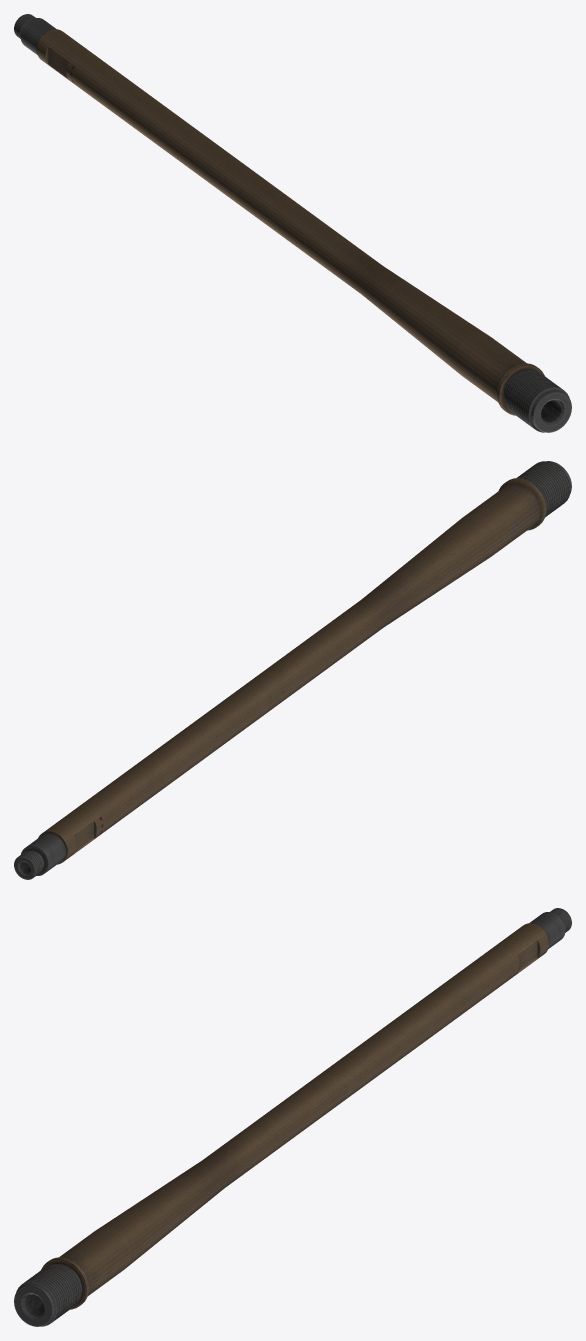
3 views of the same model, one above another, from view 1: azimuth 30°, elevation 25°; view 2: azimuth 150°, elevation 25°; view 3: azimuth 330°, elevation 25° (orthographic).
Parts seen in each view (by area): view 1: TW_628121434fa03b6b6c35dc6a_PZ_Import; view 2: TW_628121434fa03b6b6c35dc6a_PZ_Import; view 3: TW_628121434fa03b6b6c35dc6a_PZ_Import.
Boxes of the visible parts, box(x1,y1,x2,y2) form: TW_628121434fa03b6b6c35dc6a_PZ_Import: box(14, 14, 571, 432); TW_628121434fa03b6b6c35dc6a_PZ_Import: box(14, 461, 571, 879); TW_628121434fa03b6b6c35dc6a_PZ_Import: box(14, 908, 571, 1326).
Bounding box in the file's own units: 0.0203 × 0.393 × 0.0203.
Materials: 1 (1 with a texture image).
